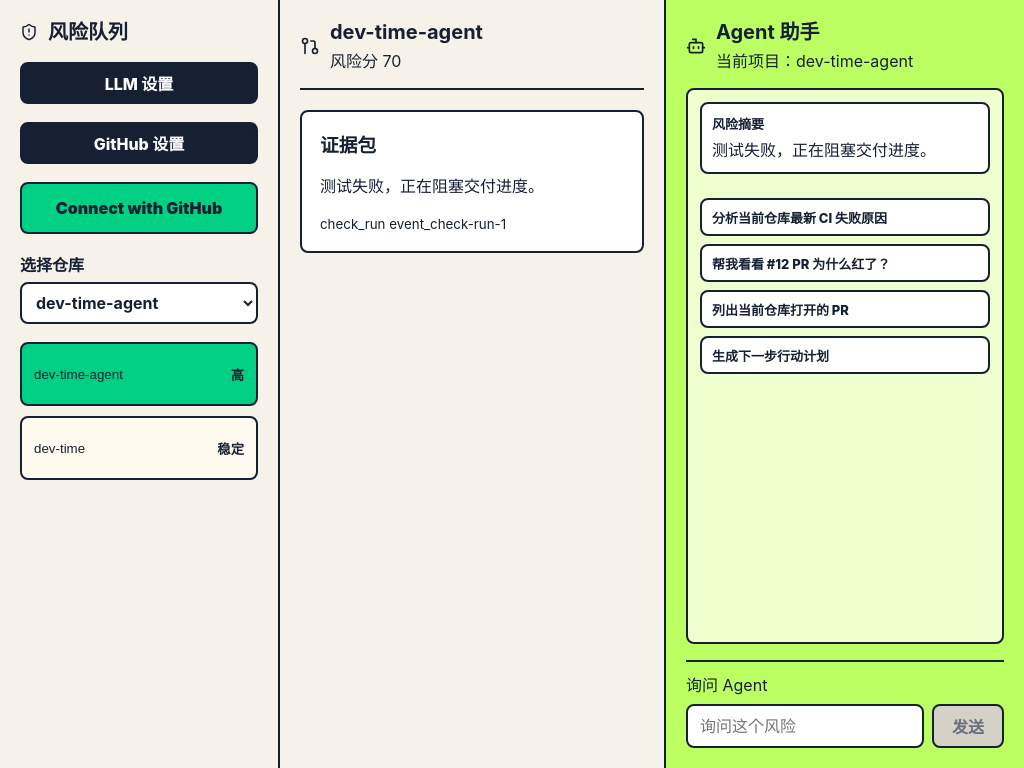
Test case: Dev Time Agent conversation › 1.0 工作台展示仓库选择、快捷指令、PR 诊断卡片、Trace 实体和 Markdown
expect the dropdown labelled "选择仓库" is shown: met, box [20,282,258,324]
expect the button "分析当前仓库最新 CI 失败原因" is shown: met, box [700,198,990,236]
In the field labelled "询问 Agent": (805, 726) [686,704,924,748], type "帮我看看 #12 PR 为什么红了？"
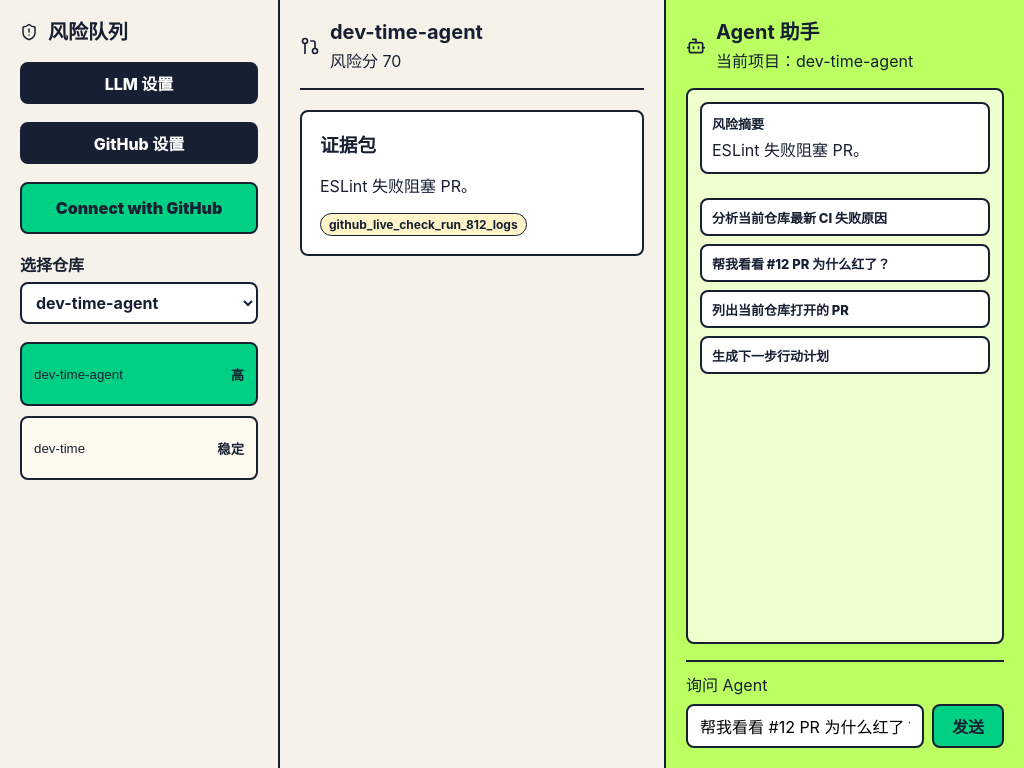
Click the button "发送": (968, 726) [932,704,1004,748]
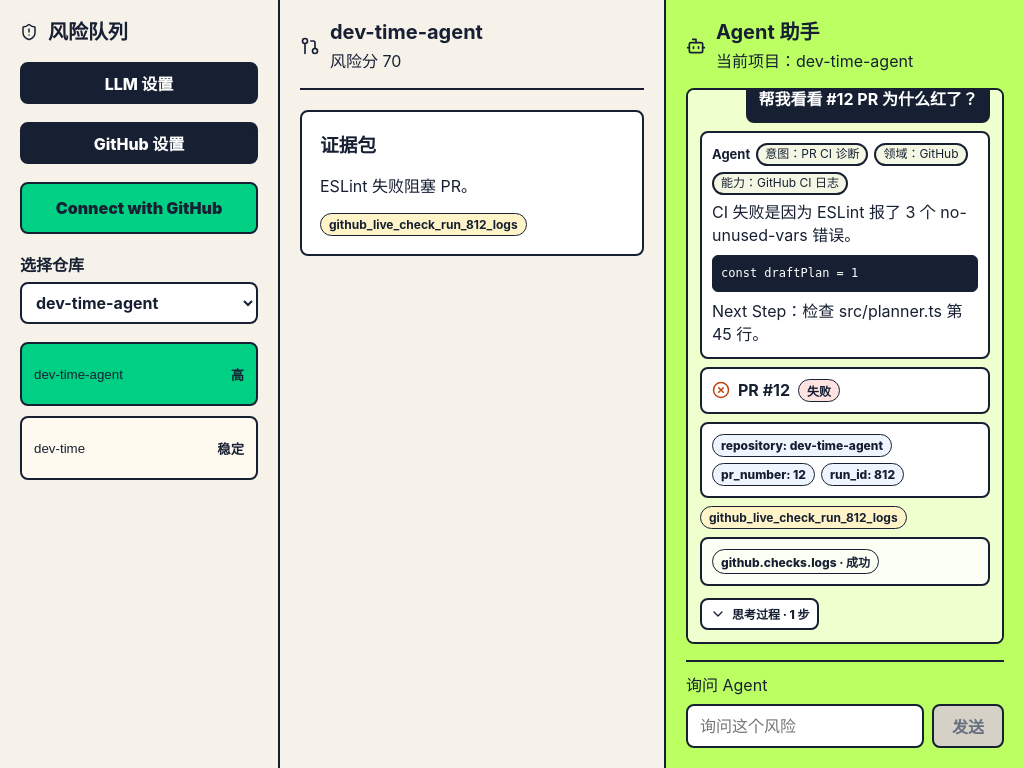
expect the text "CI 失败是因为 ESLint 报了 3 个 no-unused-vars 错误。" is shown: met, box [712,201,978,247]
expect the text "PR #12" is shown: met, box [738,380,790,400]
expect the text "github.checks.logs · 成功" is shown: met, box [712,549,879,574]
